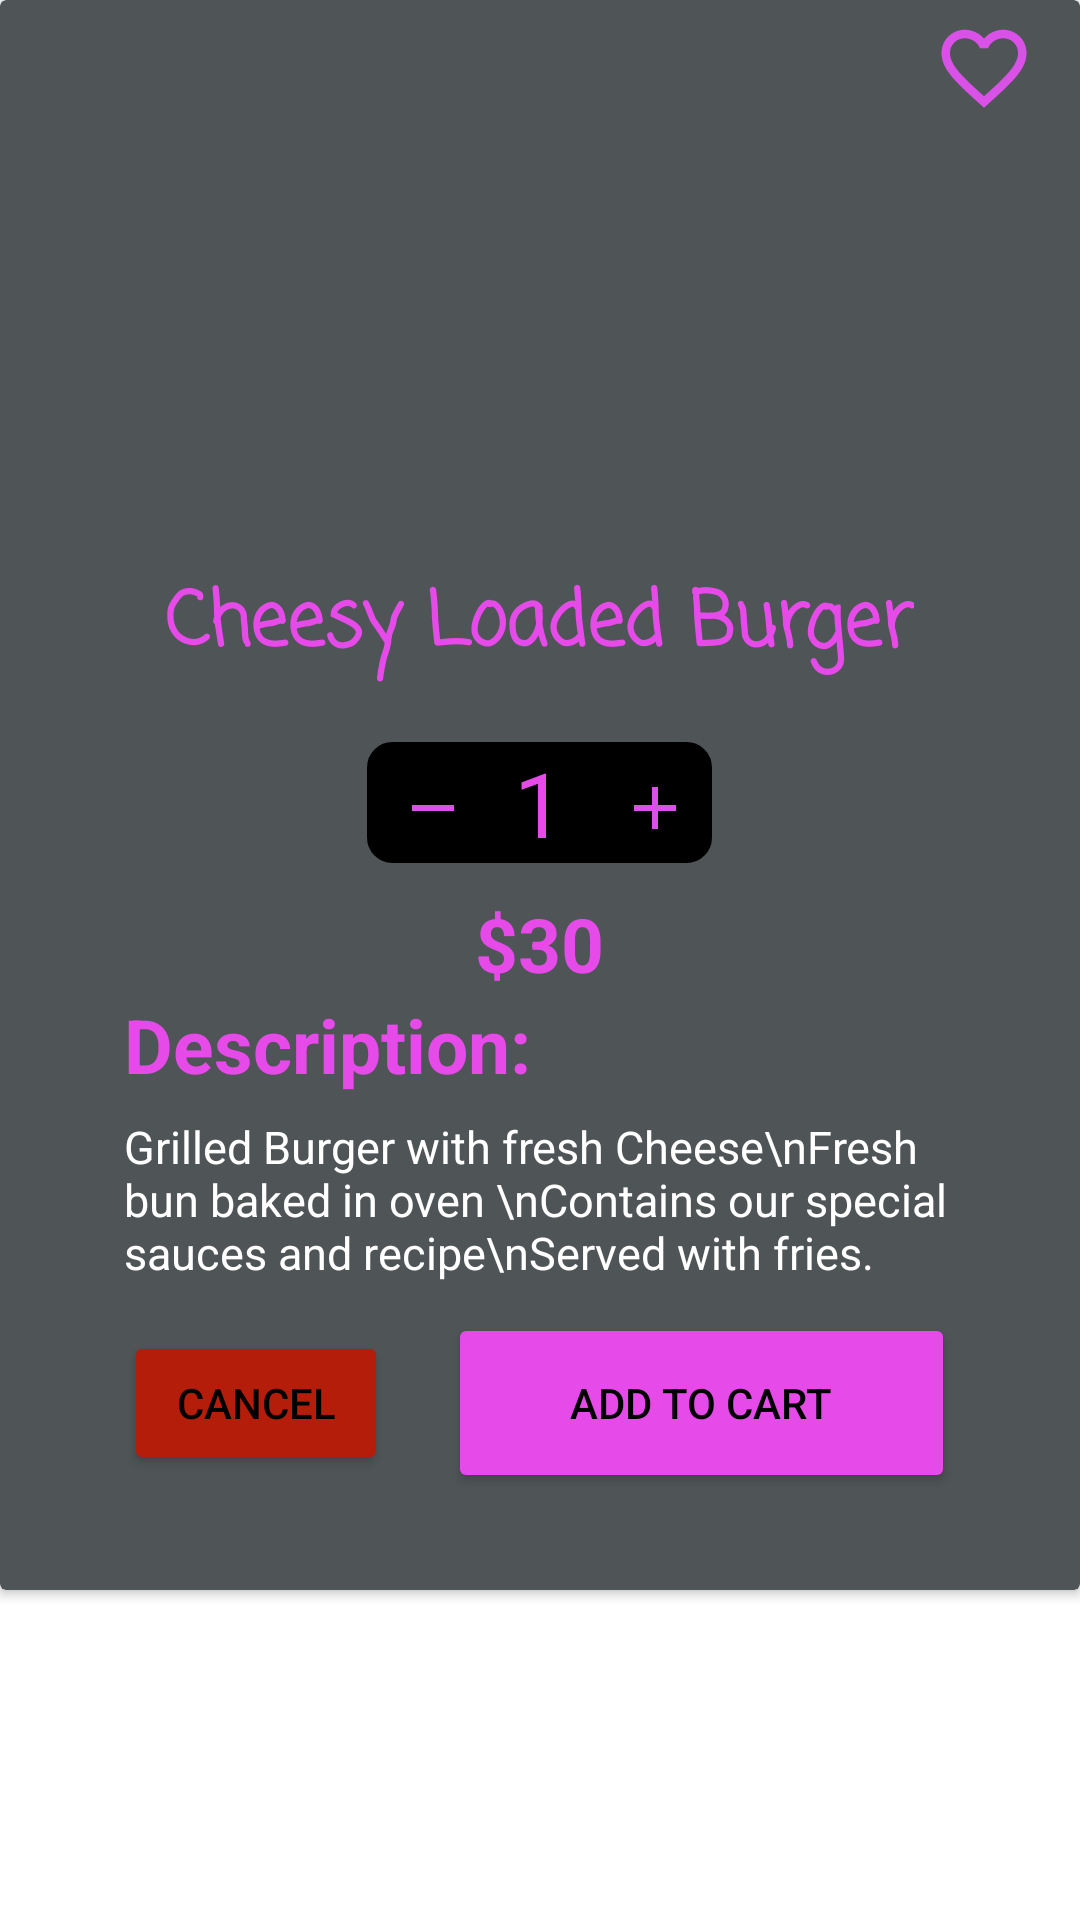

Point at icon controls on the screen. Image size 1080w x 1920h, points as [x,y].
add: [655,808]
emptyfav: [984,68]
